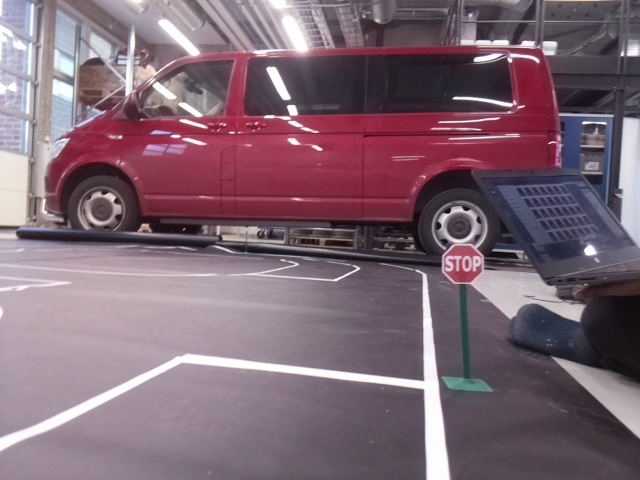Stop: (440, 242, 482, 284)
